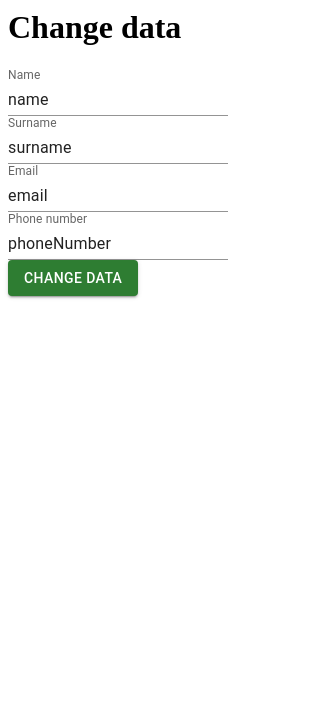
UpdateUser › should show error snackbar after faild update
The width and height of the screenshot is (320, 708).
Click the button "Change data" at (73, 278), box [8,260,138,296]
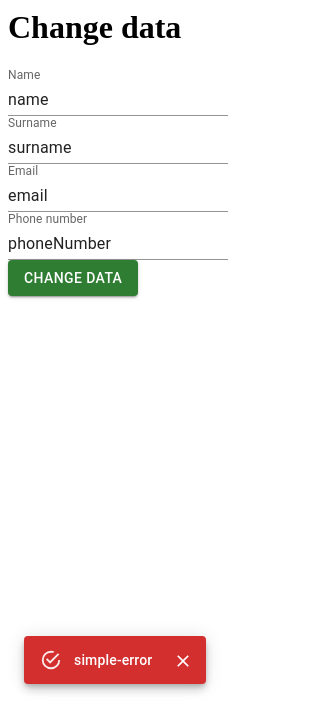
Now the text "simple-error" is shown, box [74,652,152,668]
